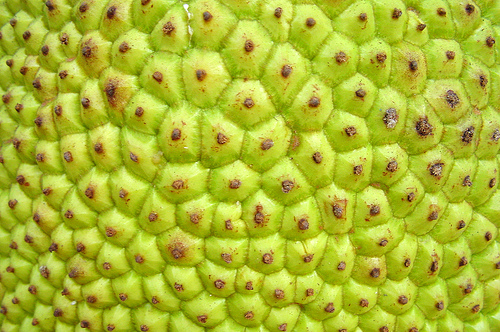jackfruit: (0, 0, 498, 330)
